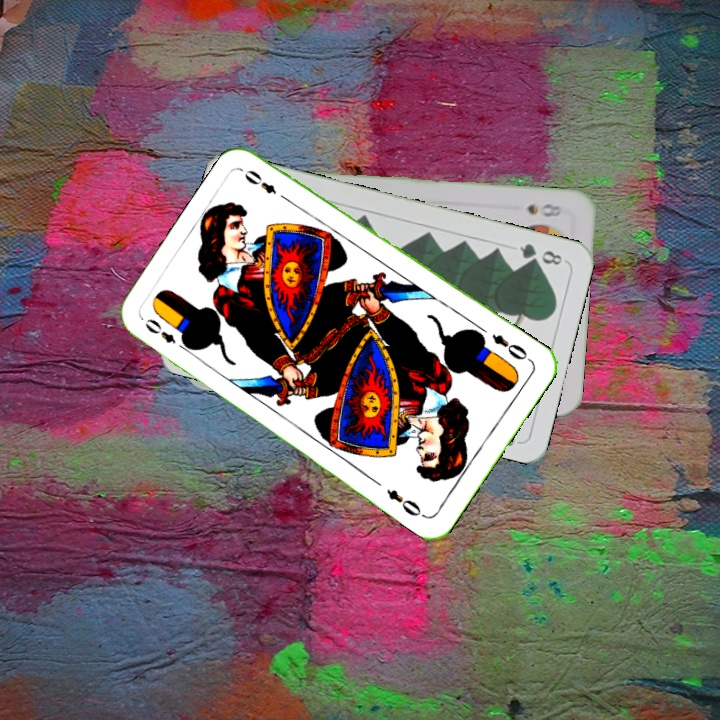EO: (140, 314, 192, 355), (488, 330, 534, 365)
G8: (515, 239, 565, 268)
S8: (523, 200, 564, 220)
